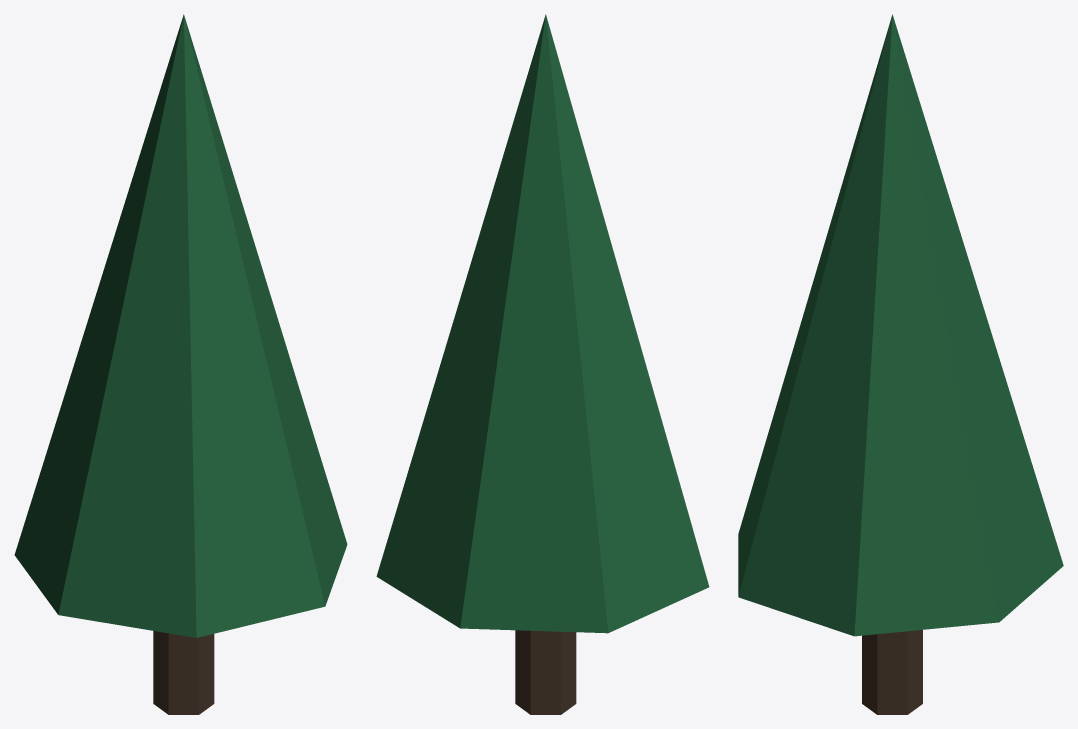
Rendered from pine_green.glb.
The picture shows the model from 3 angles, left to right: view 1: azimuth 30°, elevation 25°; view 2: azimuth 150°, elevation 25°; view 3: azimuth 270°, elevation 25°; orthographic projection.
Parts seen in each view (by area): view 1: pine_green; view 2: pine_green; view 3: pine_green.
Part boxes in pixels (x1,y1,x2,y2): pine_green: (14, 14, 347, 714); pine_green: (376, 14, 709, 714); pine_green: (738, 14, 1063, 714).
Size of the model in its own units: 0.1755 by 0.4 by 0.1711.
